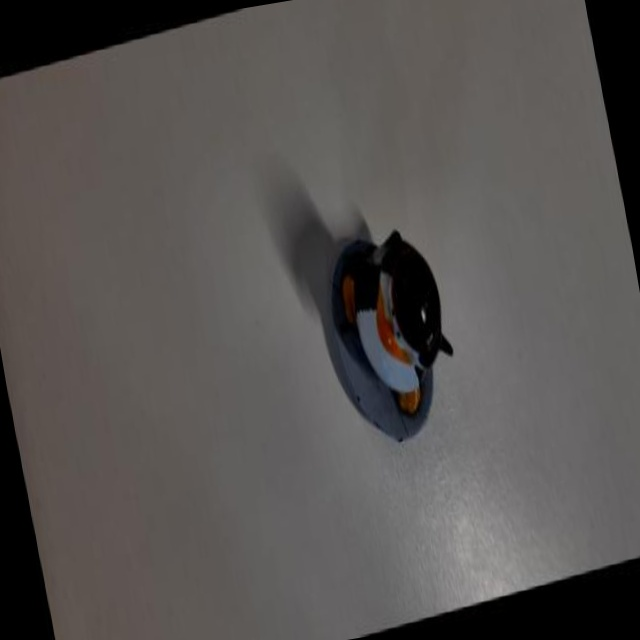Penguin: (298, 194, 481, 489)
